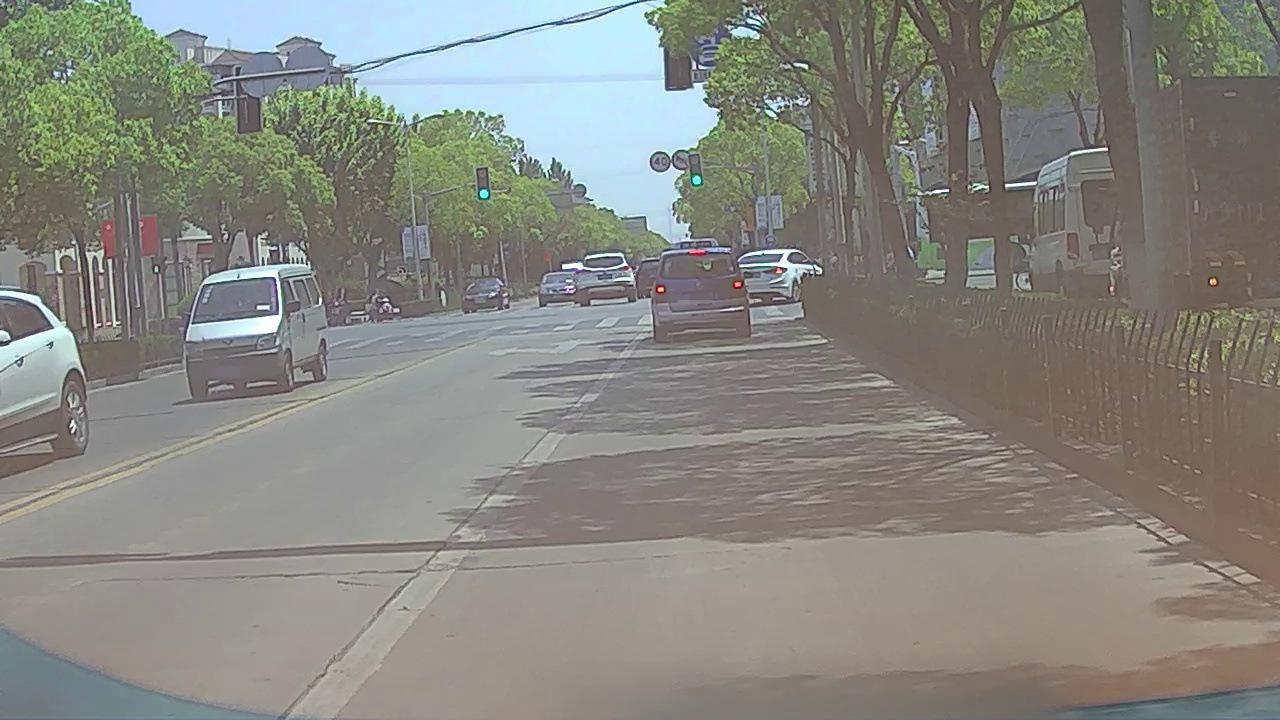traffic_light: (690, 155, 703, 186), (477, 168, 489, 199)
